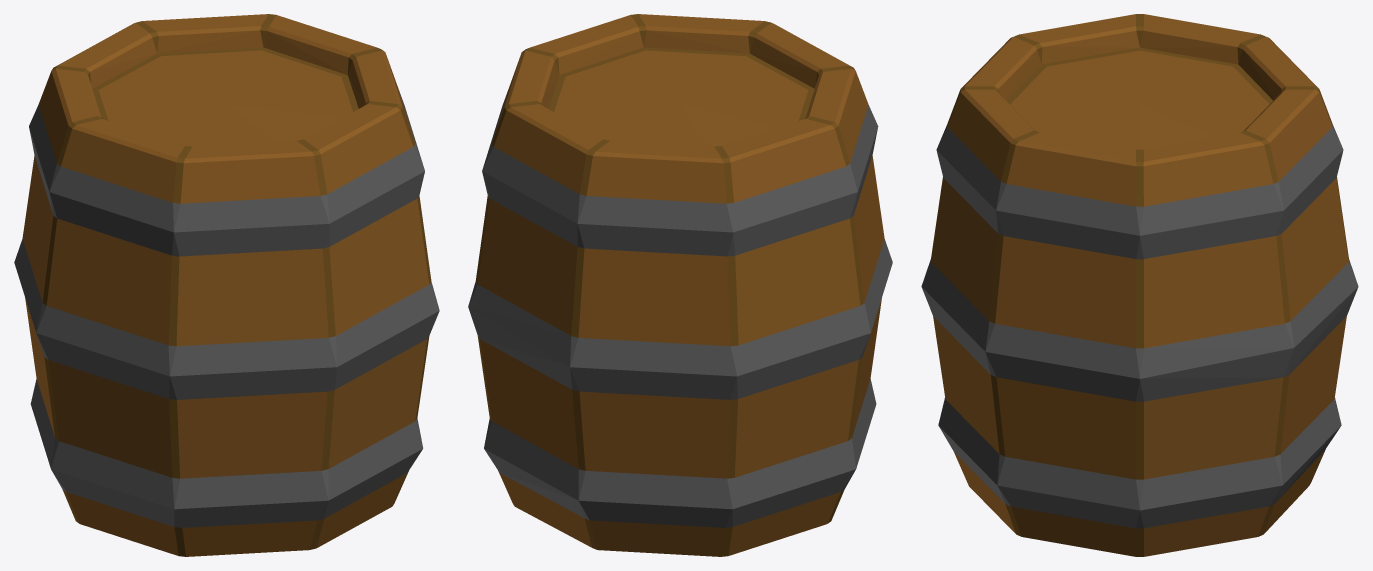
The model's file is Barrel.fbx.
3 renders of one model, left to right at view 1: azimuth 30°, elevation 25°; view 2: azimuth 150°, elevation 25°; view 3: azimuth 270°, elevation 25°, orthographic.
Parts seen in each view (by area): view 1: Med-poly; view 2: Med-poly; view 3: Med-poly.
Part boxes in pixels (x1=…): Med-poly: x1=14, y1=14, x2=439, y2=556; Med-poly: x1=468, y1=14, x2=892, y2=556; Med-poly: x1=921, y1=14, x2=1358, y2=556.
Size of the model in its own units: 234 by 235 by 234.
